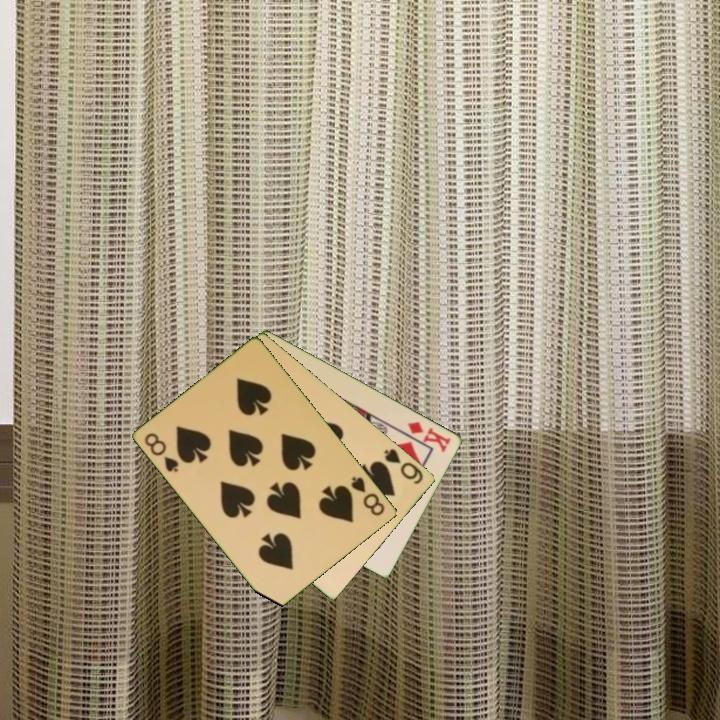6s: (381, 445, 427, 487)
8s: (141, 429, 182, 475), (348, 473, 388, 519)
Kd: (404, 418, 454, 455)
